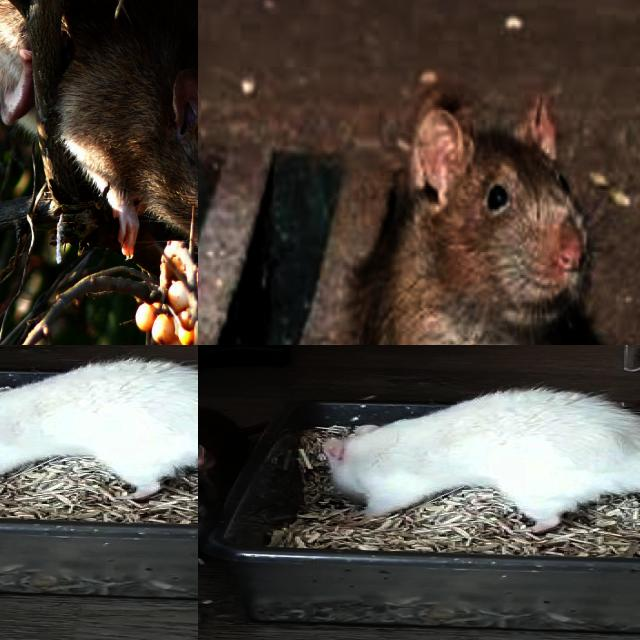rat: (342, 82, 615, 345), (0, 0, 198, 287), (310, 392, 640, 540), (0, 362, 198, 494), (198, 405, 249, 569)
